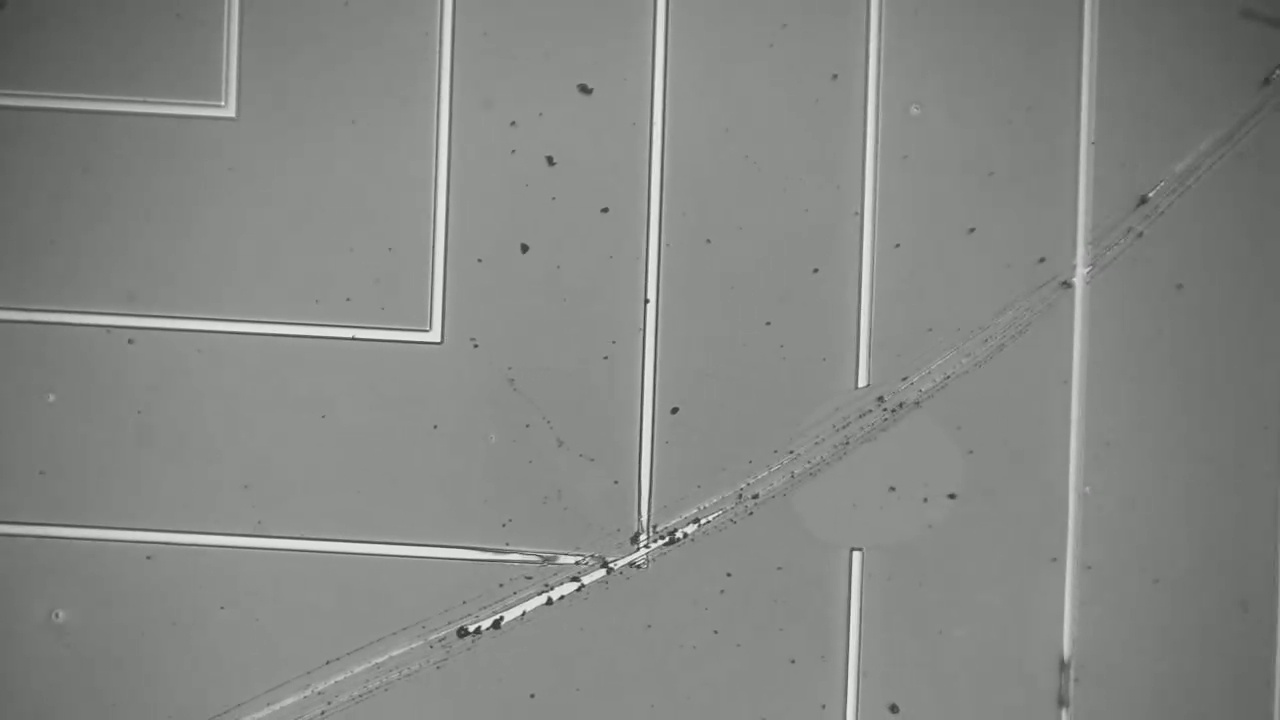gray_line: (1033, 630, 1095, 720)
open: (811, 359, 895, 590)
scratch: (690, 93, 1268, 540), (200, 566, 573, 720)
